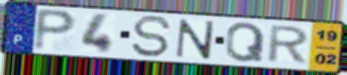4: (79, 12, 117, 55)
N: (174, 18, 218, 61)
P: (31, 7, 79, 53)
Q: (224, 21, 267, 64)
R: (264, 24, 312, 65)
S: (130, 14, 174, 59)
